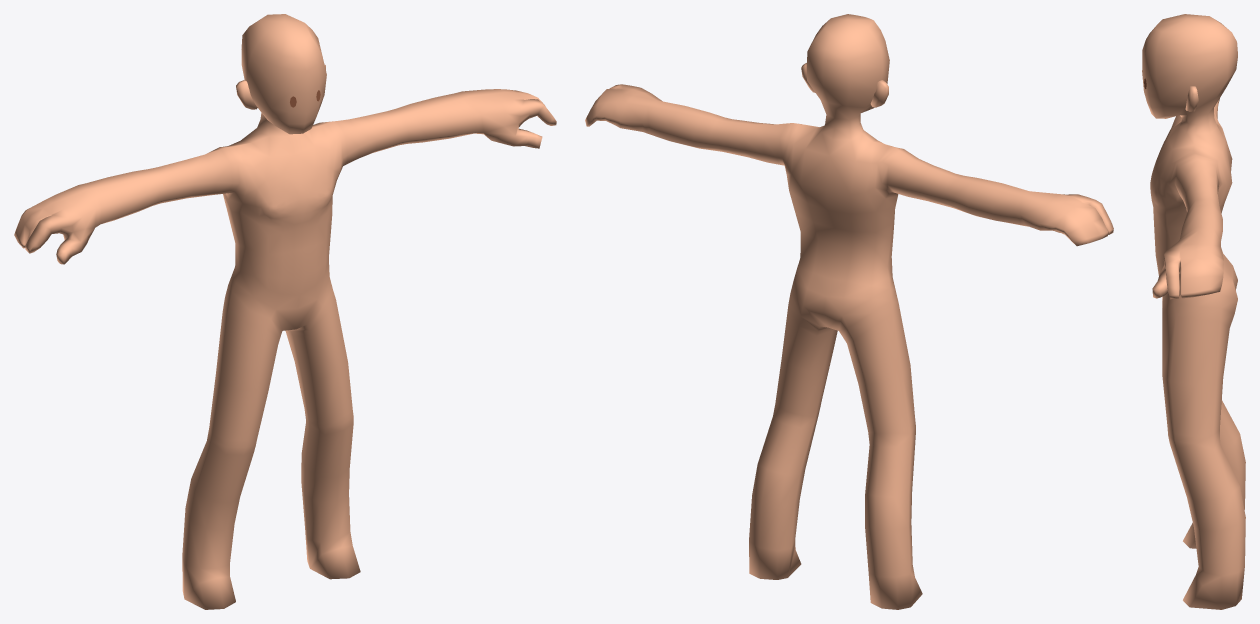
Rendered from Bodyparts.fbx.
3 views of the same model, side by side, from view 1: azimuth 30°, elevation 25°; view 2: azimuth 150°, elevation 25°; view 3: azimuth 270°, elevation 25° (orthographic). The views are drawn at different scales.
Visible parts, largest first — view 1: 01 Body - Human Torso, 01 Body - Human Leg Right, 01 Body - Human Leg Left, 01 Body - Human Head, 01 Body - Human Arm Right, 01 Body - Human Arm Left, 01 Body - Human Hand Right, 01 Body - Human Foot Right, 01 Body - Human Foot Left, 01 Body - Human Hand Left; view 2: 01 Body - Human Torso, 01 Body - Human Leg Right, 01 Body - Human Leg Left, 01 Body - Human Head, 01 Body - Human Arm Right, 01 Body - Human Arm Left, 01 Body - Human Hand Right, 01 Body - Human Foot Right, 01 Body - Human Foot Left, 01 Body - Human Hand Left; view 3: 01 Body - Human Leg Left, 01 Body - Human Head, 01 Body - Human Torso, 01 Body - Human Foot Left, 01 Body - Human Hand Left, 01 Body - Human Arm Left, 01 Body - Human Leg Right, 01 Body - Human Foot Right, 01 Body - Human EarL.
Part boxes in pixels (x1=…): 01 Body - Human Torso: x1=205, y1=119, x2=359, y2=344; 01 Body - Human Leg Right: x1=185, y1=311, x2=277, y2=529; 01 Body - Human Leg Left: x1=285, y1=300, x2=353, y2=503; 01 Body - Human Head: x1=241, y1=14, x2=326, y2=136; 01 Body - Human Arm Right: x1=86, y1=154, x2=215, y2=224; 01 Body - Human Arm Left: x1=349, y1=93, x2=477, y2=158; 01 Body - Human Hand Right: x1=14, y1=183, x2=101, y2=264; 01 Body - Human Foot Right: x1=182, y1=508, x2=235, y2=609; 01 Body - Human Foot Left: x1=301, y1=482, x2=360, y2=579; 01 Body - Human Hand Left: x1=455, y1=89, x2=556, y2=148; 01 Body - Human Torso: x1=763, y1=123, x2=918, y2=343; 01 Body - Human Leg Right: x1=847, y1=304, x2=915, y2=529; 01 Body - Human Leg Left: x1=752, y1=305, x2=837, y2=505; 01 Body - Human Head: x1=806, y1=14, x2=889, y2=139; 01 Body - Human Arm Right: x1=902, y1=159, x2=1023, y2=225; 01 Body - Human Arm Left: x1=648, y1=102, x2=775, y2=162; 01 Body - Human Hand Right: x1=1014, y1=189, x2=1113, y2=246; 01 Body - Human Foot Right: x1=865, y1=523, x2=922, y2=609; 01 Body - Human Foot Left: x1=749, y1=495, x2=801, y2=579; 01 Body - Human Hand Left: x1=585, y1=84, x2=664, y2=133; 01 Body - Human Leg Left: x1=1162, y1=313, x2=1245, y2=531; 01 Body - Human Head: x1=1142, y1=14, x2=1237, y2=133; 01 Body - Human Torso: x1=1150, y1=109, x2=1237, y2=328; 01 Body - Human Foot Left: x1=1183, y1=517, x2=1245, y2=609; 01 Body - Human Hand Left: x1=1152, y1=227, x2=1223, y2=299; 01 Body - Human Arm Left: x1=1180, y1=169, x2=1222, y2=241; 01 Body - Human Leg Right: x1=1162, y1=299, x2=1245, y2=474; 01 Body - Human Foot Right: x1=1183, y1=462, x2=1245, y2=548; 01 Body - Human EarL: x1=1185, y1=86, x2=1198, y2=111.
Size of the model in its own units: 1.53 by 1.58 by 0.2685.
